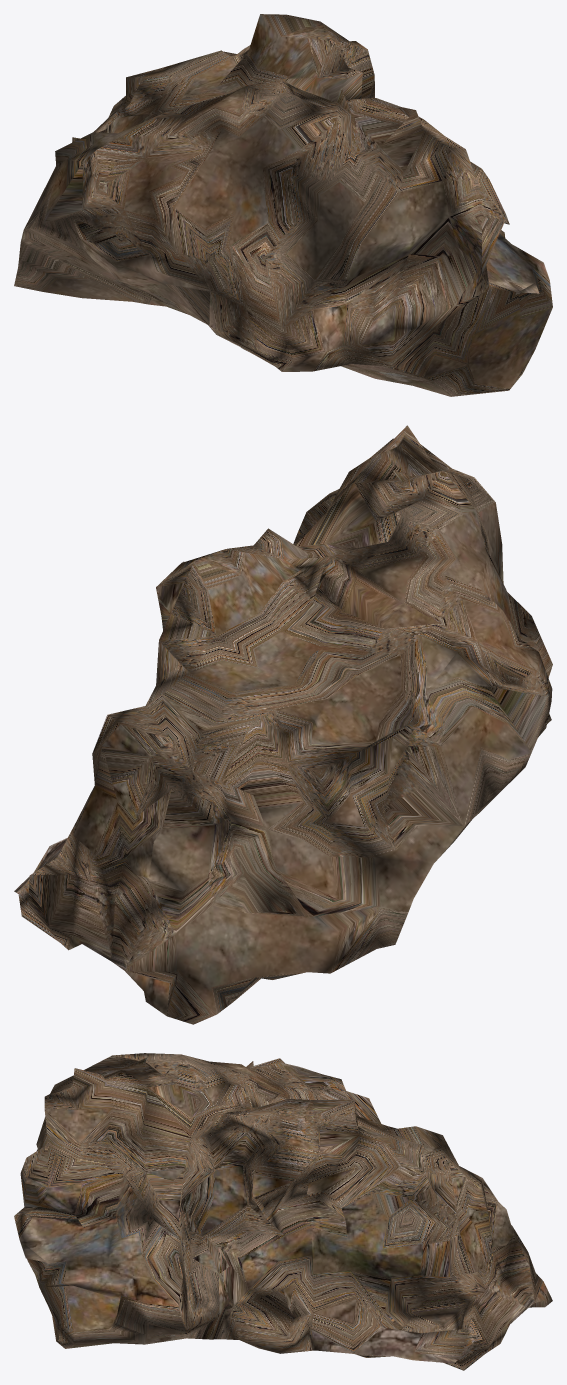
File: boulder.glb
3 renders of one model, top to bottom at view 1: azimuth 30°, elevation 25°; view 2: azimuth 150°, elevation 25°; view 3: azimuth 270°, elevation 25°, orthographic. The views are drawn at different scales.
Visible parts, largest first — view 1: boulder_01; view 2: boulder_01; view 3: boulder_01.
Part boxes in pixels (x1=…): boulder_01: x1=14, y1=14, x2=552, y2=396; boulder_01: x1=14, y1=425, x2=552, y2=1024; boulder_01: x1=14, y1=1053, x2=552, y2=1370.
Bounding box in the file's own units: 1.24 × 0.9976 × 1.82.
1 material, 1 textured.
